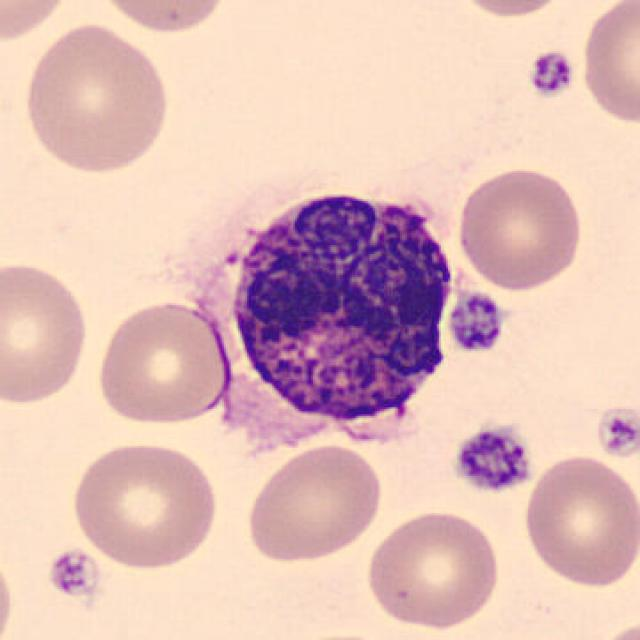Basophil: (205, 170, 468, 466)
Platelets: (448, 422, 537, 496), (444, 290, 506, 354), (44, 545, 100, 601), (524, 48, 578, 100), (592, 404, 638, 460)
RBC: (18, 19, 174, 178), (66, 437, 222, 573), (92, 296, 233, 430), (361, 506, 505, 633), (240, 441, 386, 566), (453, 162, 587, 293), (519, 451, 638, 591), (0, 255, 92, 409), (578, 0, 640, 127), (91, 0, 233, 37), (0, 0, 76, 46), (449, 0, 574, 19), (270, 627, 410, 640), (0, 541, 18, 640), (590, 615, 638, 640)
